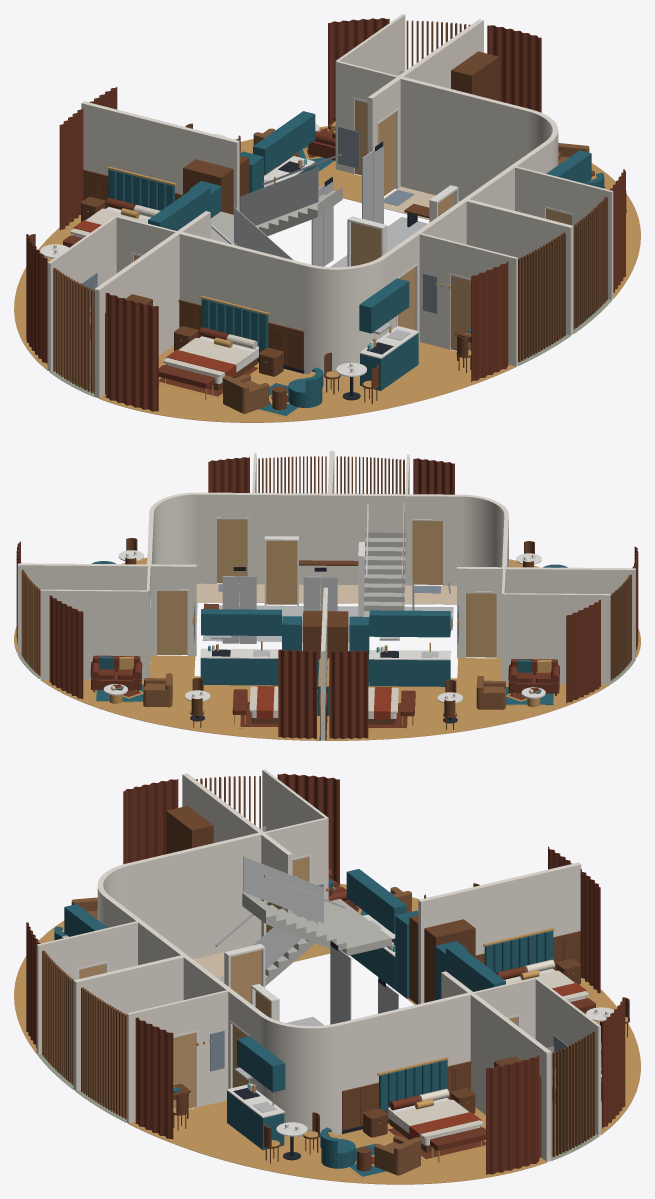
The picture shows the model from 3 angles, top to bottom: view 1: azimuth 30°, elevation 25°; view 2: azimuth 150°, elevation 25°; view 3: azimuth 270°, elevation 25°; orthographic projection. The views are drawn at different scales.
Parts seen in each view (by area): view 1: Walls, Furniture, Generic models, Floors, Casework, Doors, Railings, Specialty equipment, Stairs; view 2: Walls, Furniture, Floors, Doors, Casework, Generic models, Specialty equipment, Stairs, Railings; view 3: Walls, Furniture, Generic models, Casework, Floors, Doors, Stairs, Railings, Specialty equipment.
Boxes of the visible parts, box(x1,y1,x2,y2) form: Walls: box(47, 14, 613, 397); Furniture: box(26, 18, 626, 417); Generic models: box(53, 20, 607, 394); Floors: box(14, 126, 640, 422); Casework: box(90, 51, 591, 393); Doors: box(131, 97, 573, 350); Railings: box(211, 153, 341, 259); Specialty equipment: box(189, 141, 383, 266); Stairs: box(210, 187, 342, 245); Walls: box(17, 451, 635, 740); Furniture: box(16, 457, 638, 738); Floors: box(14, 557, 640, 740); Doors: box(149, 517, 498, 673); Casework: box(200, 609, 450, 686); Generic models: box(21, 456, 631, 740); Specialty equipment: box(222, 567, 369, 686); Stairs: box(363, 532, 452, 635); Railings: box(366, 502, 450, 610); Walls: box(36, 769, 600, 1161); Furniture: box(26, 773, 629, 1178); Generic models: box(42, 776, 595, 1157); Casework: box(61, 806, 555, 1157); Floors: box(14, 883, 640, 1184); Doors: box(77, 854, 520, 1108); Stairs: box(217, 893, 391, 985); Railings: box(215, 856, 345, 969); Specialty equipment: box(330, 910, 467, 1024).
Size of the model in its own units: 17.65 by 4.03 by 15.27.
